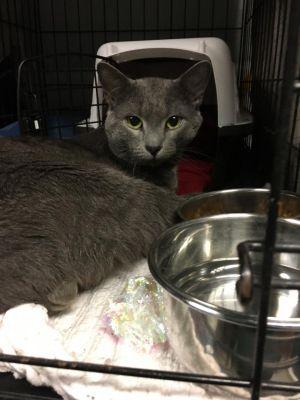rblue: (90, 56, 220, 177)
